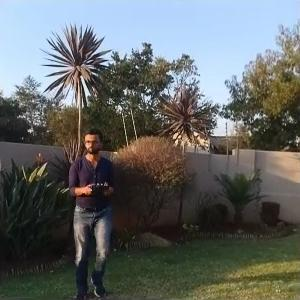follow: (64, 125, 118, 299)
